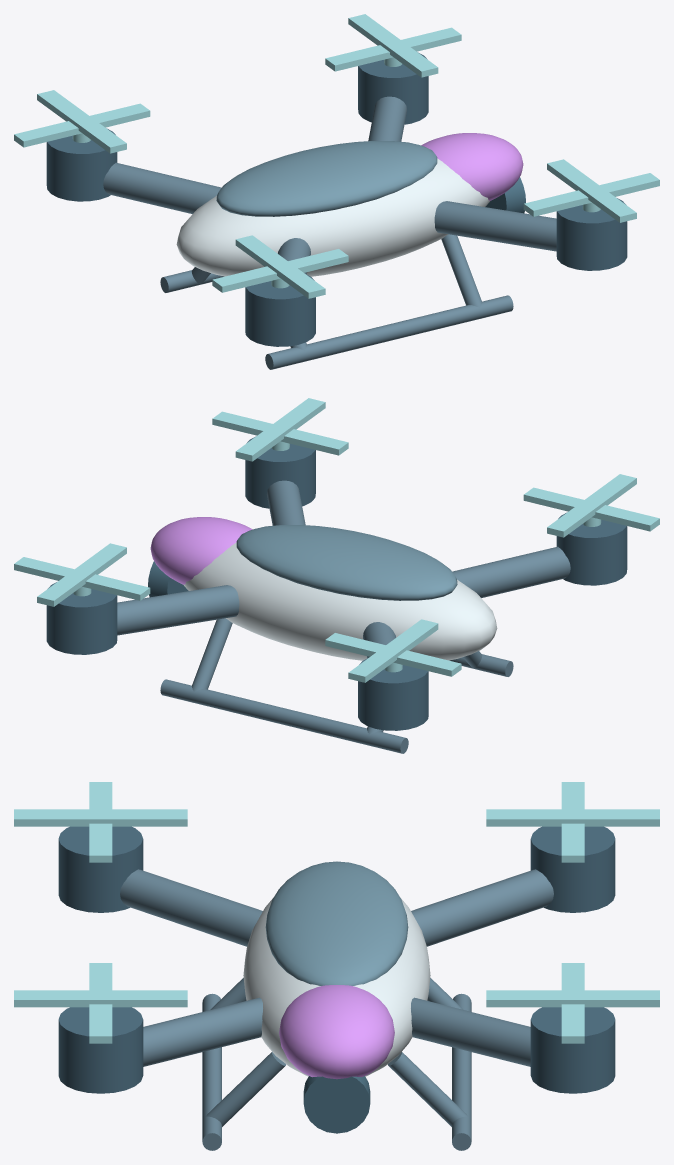
Rendered from drone.glb.
3 views of the same model, one above another, from view 1: azimuth 30°, elevation 25°; view 2: azimuth 150°, elevation 25°; view 3: azimuth 270°, elevation 25° (orthographic). The views are drawn at different scales.
Size of the model in its own units: 1.35 by 0.437 by 1.45.
